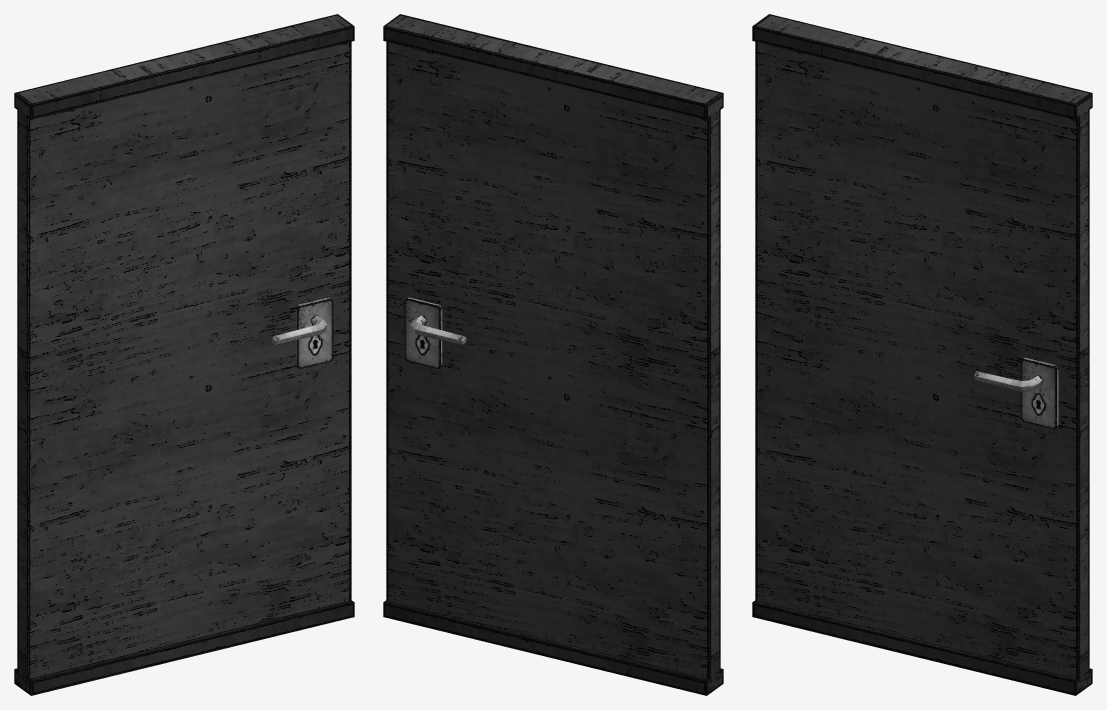
The model's file is Door.fbx.
The picture shows the model from 3 angles, left to right: view 1: azimuth 30°, elevation 25°; view 2: azimuth 150°, elevation 25°; view 3: azimuth 330°, elevation 25°; orthographic projection.
Parts seen in each view (by area): view 1: Door; view 2: Door; view 3: Door.
Part boxes in pixels (x1,y1,x2,y2): Door: (14, 14, 354, 695); Door: (383, 14, 723, 695); Door: (752, 14, 1092, 695).
Size of the model in its own units: 134 by 233 by 29.12.
